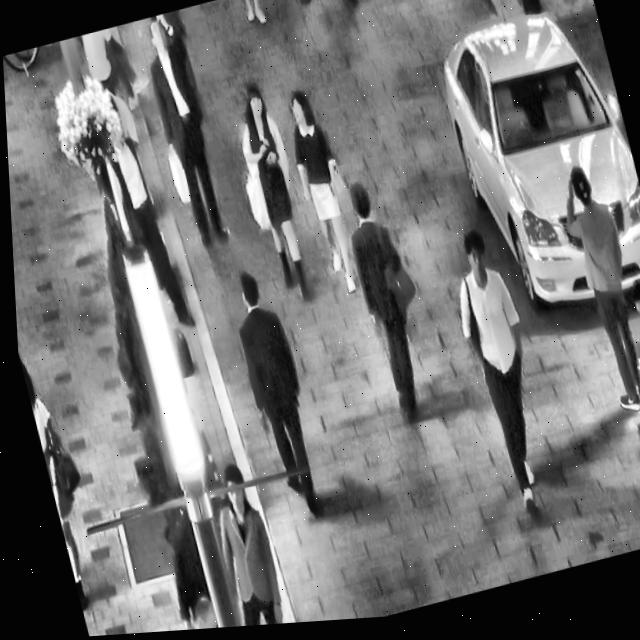light_vehicle: (419, 0, 640, 345)
